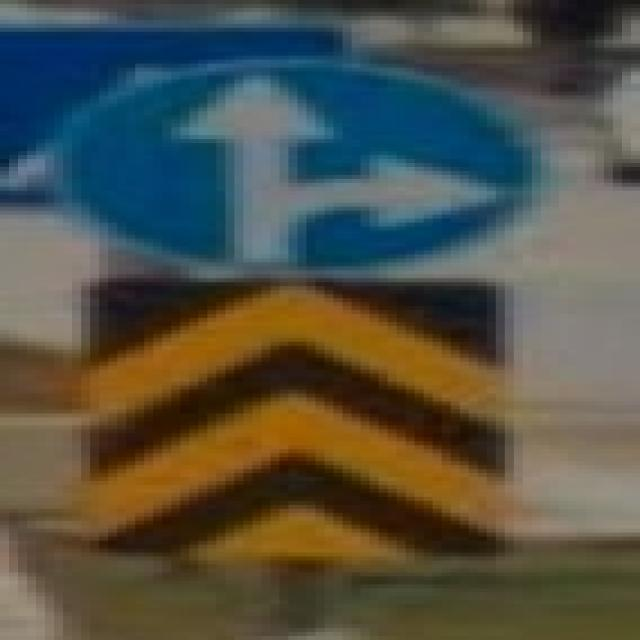Straight or Right: (78, 61, 528, 275)
